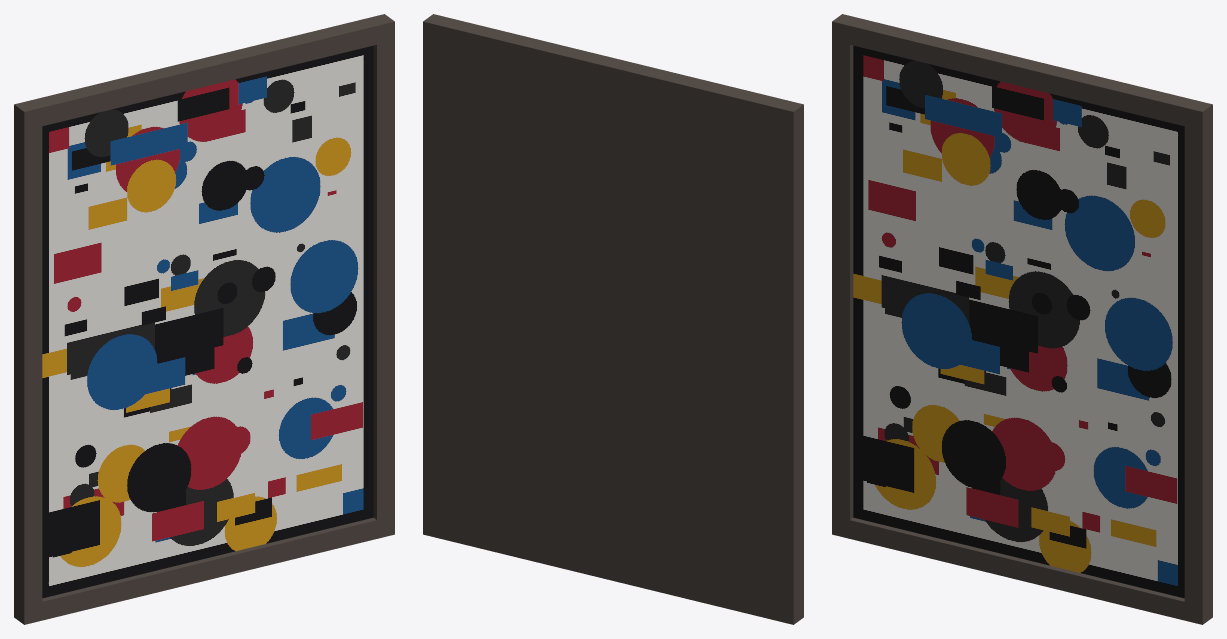
File: wall_art.glb
The picture shows the model from 3 angles, left to right: view 1: azimuth 30°, elevation 25°; view 2: azimuth 150°, elevation 25°; view 3: azimuth 330°, elevation 25°; orthographic projection.
Visible parts, largest first — view 1: WallArt; view 2: WallArt; view 3: WallArt.
Part boxes in pixels (<box>): WallArt: <box>14,14,394,624</box>; WallArt: <box>423,14,803,624</box>; WallArt: <box>832,14,1212,624</box>.
Bounding box in the file's own units: 0.62 × 0.82 × 0.03.
Materials: 2 (1 with a texture image).
